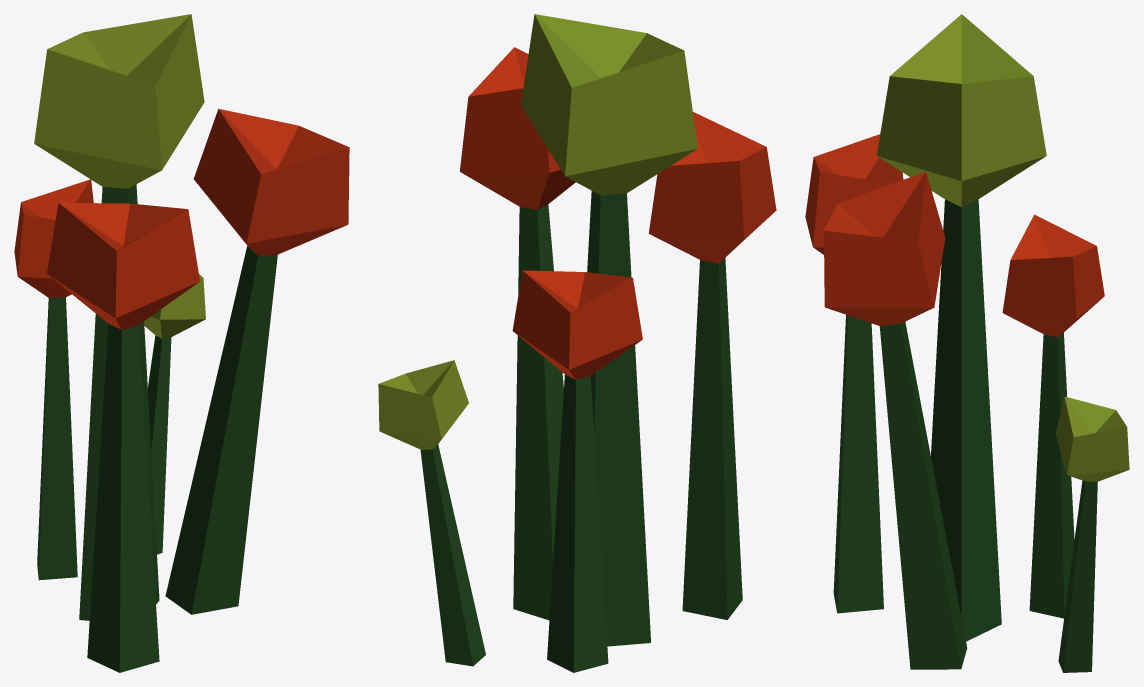
Rendered from flower2.FBX.
3 renders of one model, left to right at view 1: azimuth 30°, elevation 25°; view 2: azimuth 150°, elevation 25°; view 3: azimuth 270°, elevation 25°, orthographic. The views are drawn at different scales.
Visible parts, largest first — view 1: flower2; view 2: flower2; view 3: flower2.
Boxes of the visible parts, box(x1,y1,x2,y2) form: flower2: box(14, 14, 349, 672); flower2: box(378, 14, 776, 672); flower2: box(805, 14, 1129, 672).
Size of the model in its own units: 8.59 by 9.25 by 18.2.
